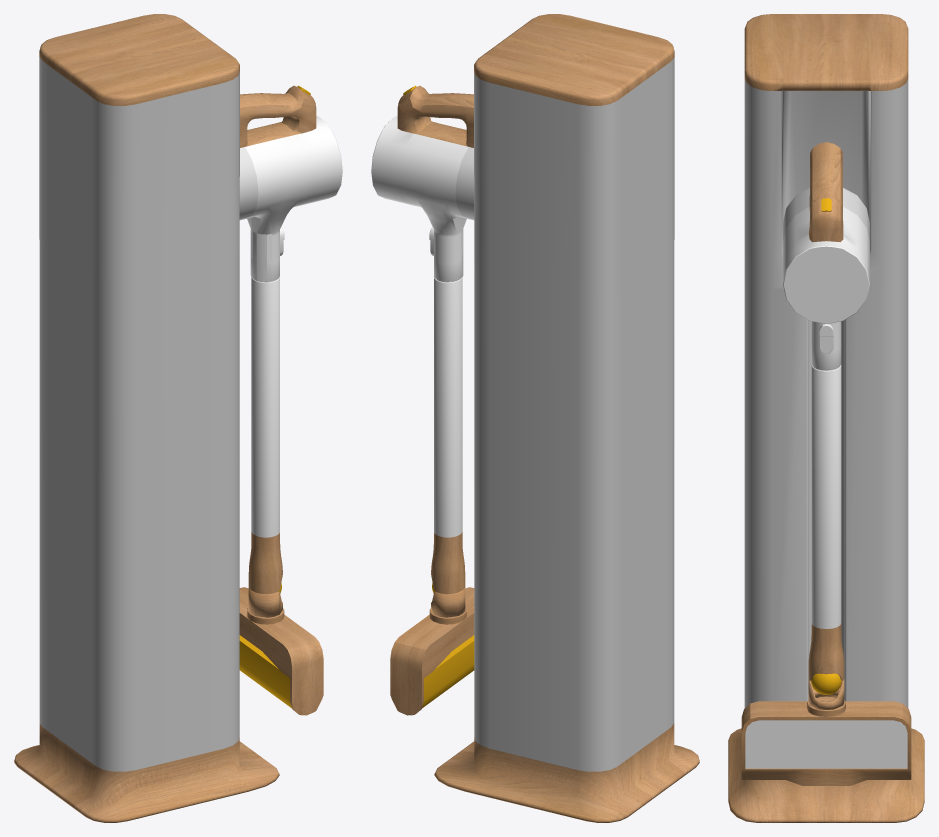
Rendered from Vacuum.fbx.
The picture shows the model from 3 angles, left to right: view 1: azimuth 30°, elevation 25°; view 2: azimuth 150°, elevation 25°; view 3: azimuth 270°, elevation 25°; orthographic projection.
Parts seen in each view (by area): view 1: VacuumBase, Vacuum, Vacuum.003, Vacuum.002; view 2: VacuumBase, Vacuum, Vacuum.003, Vacuum.002; view 3: VacuumBase, Vacuum, Vacuum.003, Vacuum.002.
Part boxes in pixels (<box>): VacuumBase: <box>14,14,279,822</box>; Vacuum: <box>239,85,342,594</box>; Vacuum.003: <box>239,587,323,715</box>; Vacuum.002: <box>248,588,282,617</box>; VacuumBase: <box>434,14,699,822</box>; Vacuum: <box>371,85,474,594</box>; Vacuum.003: <box>390,587,474,715</box>; Vacuum.002: <box>431,588,465,617</box>; VacuumBase: <box>728,14,924,822</box>; Vacuum: <box>783,142,869,694</box>; Vacuum.003: <box>741,696,911,785</box>; Vacuum.002: <box>808,679,844,709</box>.
Bounding box in the file's own units: 86.7 × 220 × 54.
